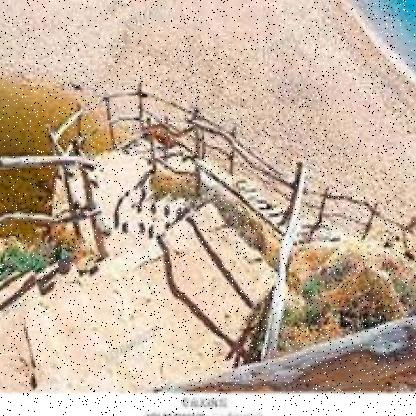stair_down: (12, 255, 214, 382)
